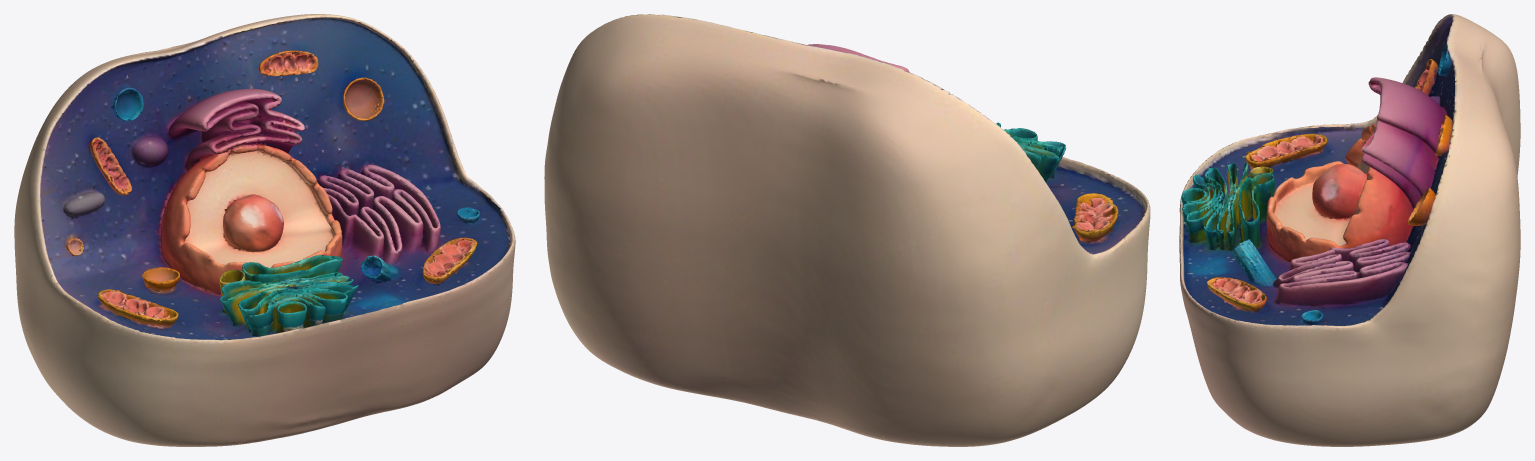
File: cells.glb
3 views of the same model, side by side, from view 1: azimuth 30°, elevation 25°; view 2: azimuth 150°, elevation 25°; view 3: azimuth 270°, elevation 25° (orthographic). The views are drawn at different scales.
Visible parts, largest first — view 1: stylized_cell_node; view 2: stylized_cell_node; view 3: stylized_cell_node.
Boxes of the visible parts, x1,y1,x2,y2 form: stylized_cell_node: [14, 14, 515, 446]; stylized_cell_node: [544, 14, 1150, 446]; stylized_cell_node: [1179, 14, 1520, 446].
Size of the model in its own units: 0.9797 by 0.6767 by 0.6942.
Materials: 1 (1 with a texture image).
